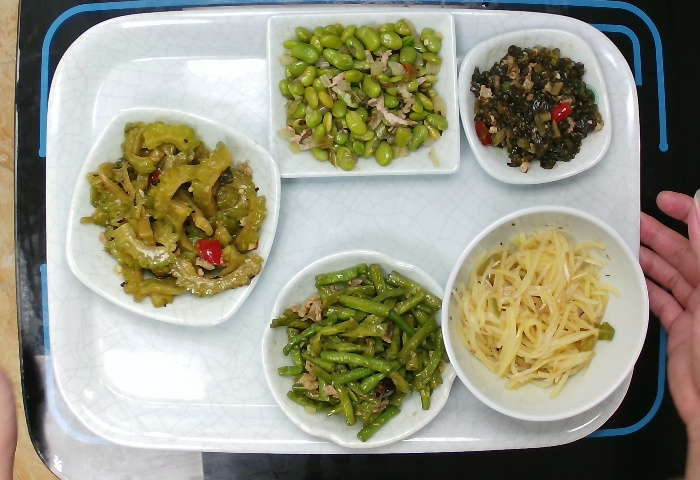JYsf-Ao_Yuan_Wan: (256, 245, 468, 450)
JYsf-Fan_Wan: (434, 198, 655, 433)
JYsf-Si_Fang_Die: (458, 27, 618, 189)
WCQzf-Da_Si_Fang_Die: (59, 100, 285, 333)
WCQzf-Ru_Ci_Si_Fang_Die: (262, 9, 468, 183)
